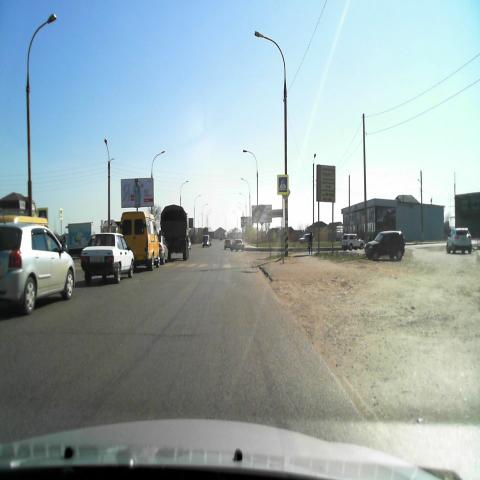5_19_1: (276, 174, 288, 195)
